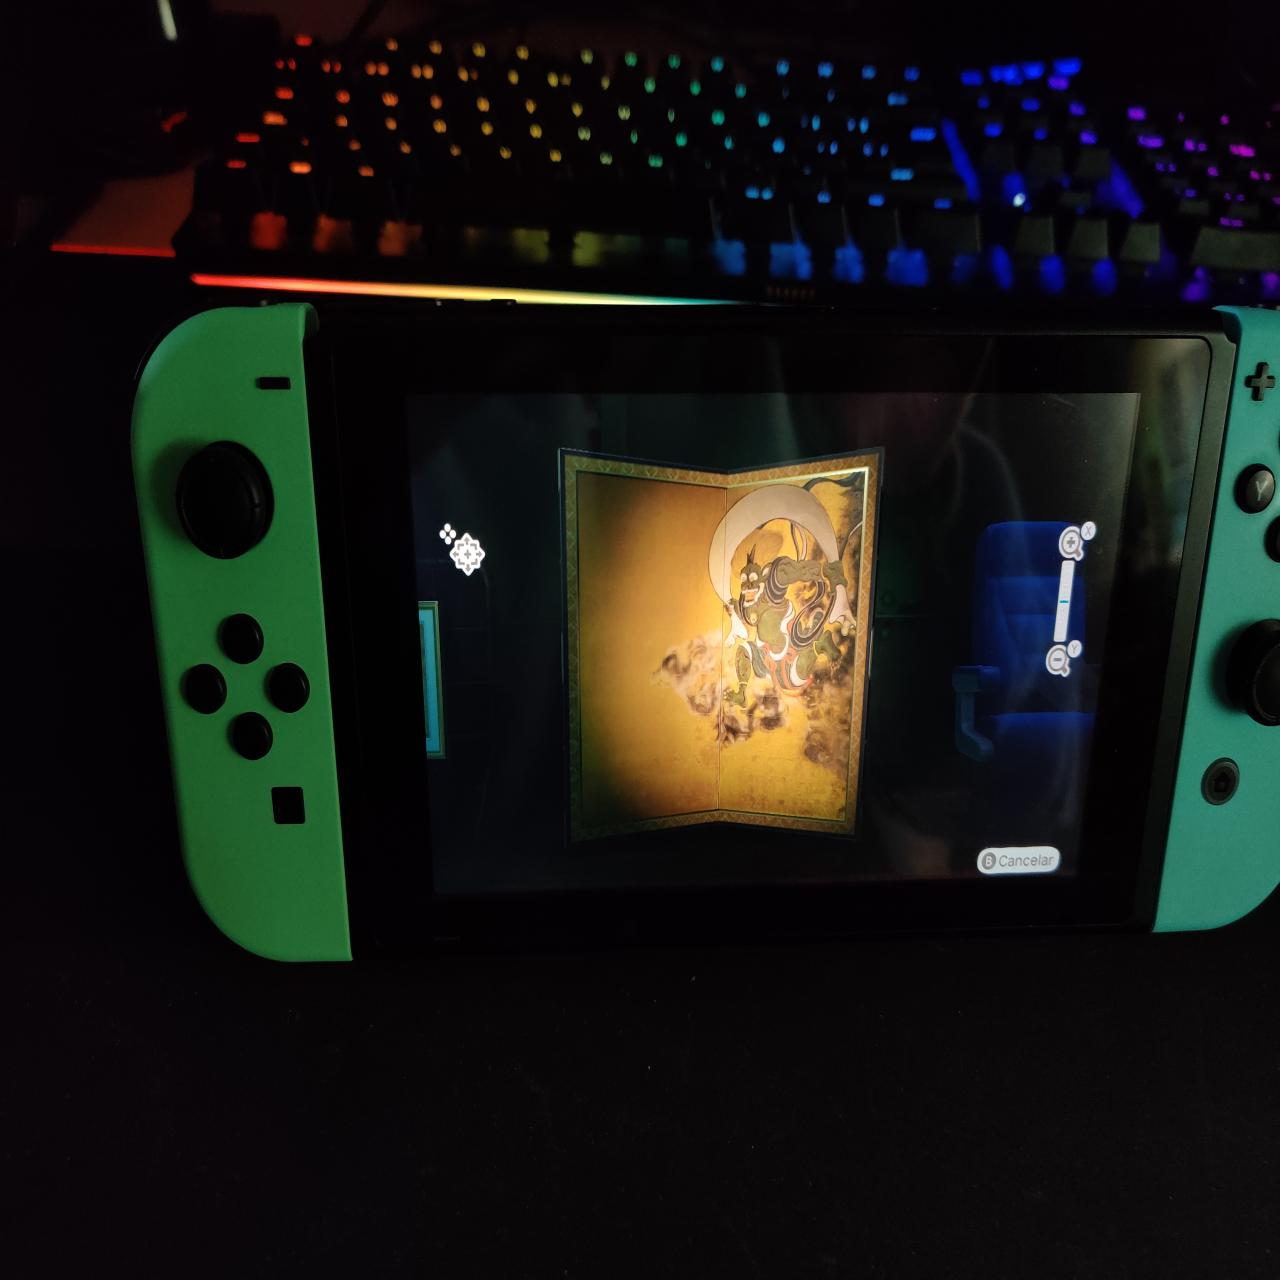Fuujin: (563, 449, 872, 840)
